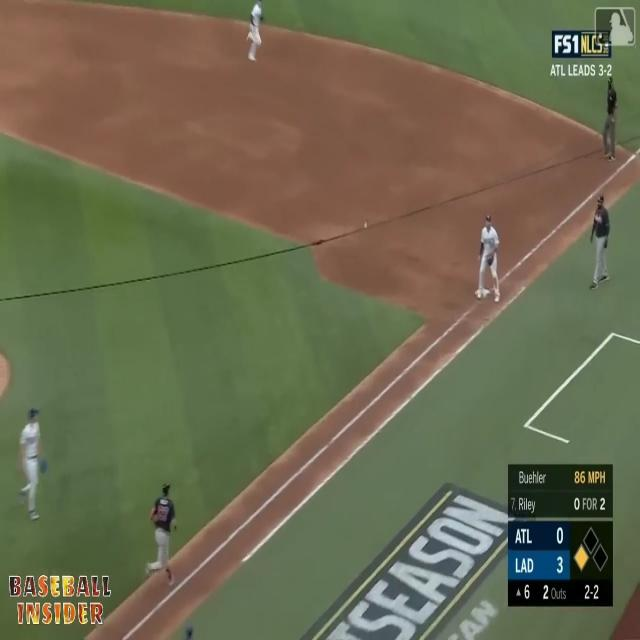baseball: (362, 220, 368, 230)
